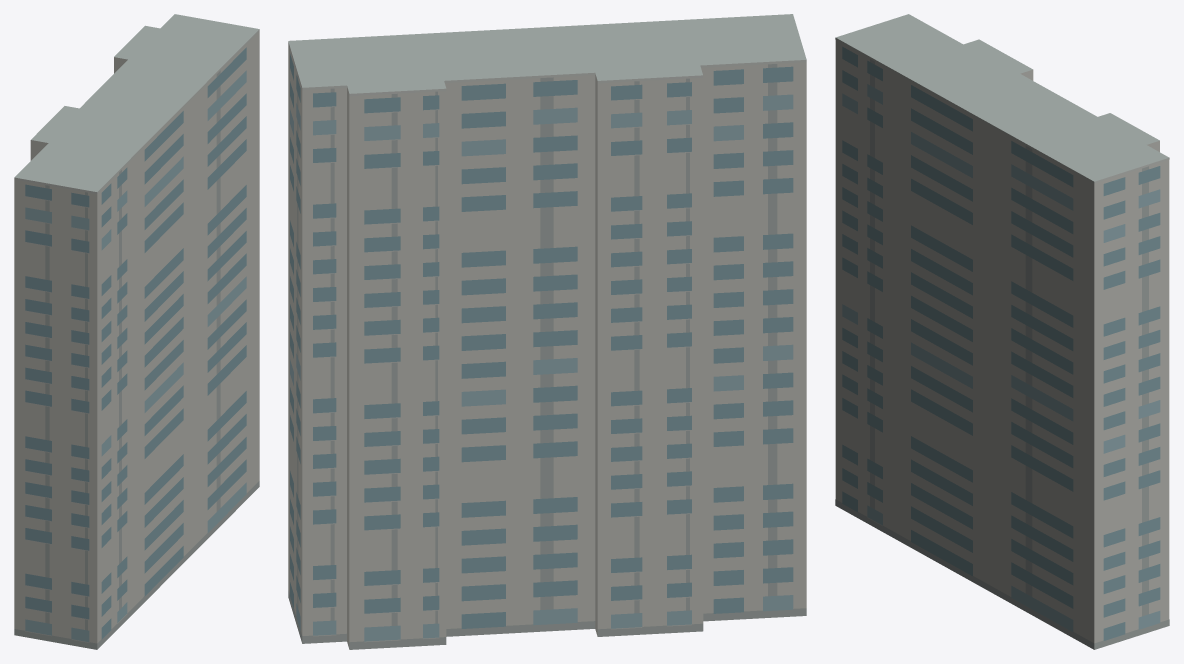
Rendered from residential-185f2afc-98d4-44a3-af7c-20a376eb6405.glb.
3 views of the same model, side by side, from view 1: azimuth 30°, elevation 25°; view 2: azimuth 150°, elevation 25°; view 3: azimuth 270°, elevation 25° (orthographic). The views are drawn at different scales.
Parts seen in each view (by area): view 1: residential-185f2afc-98d4-44a3-af7c-20a376eb6405.tmp; view 2: residential-185f2afc-98d4-44a3-af7c-20a376eb6405.tmp; view 3: residential-185f2afc-98d4-44a3-af7c-20a376eb6405.tmp.
Part boxes in pixels (x1,y1,x2,y2): residential-185f2afc-98d4-44a3-af7c-20a376eb6405.tmp: [14, 14, 259, 649]; residential-185f2afc-98d4-44a3-af7c-20a376eb6405.tmp: [288, 14, 806, 649]; residential-185f2afc-98d4-44a3-af7c-20a376eb6405.tmp: [835, 14, 1169, 649].
Size of the model in its own units: 42.27 by 55 by 35.57.
